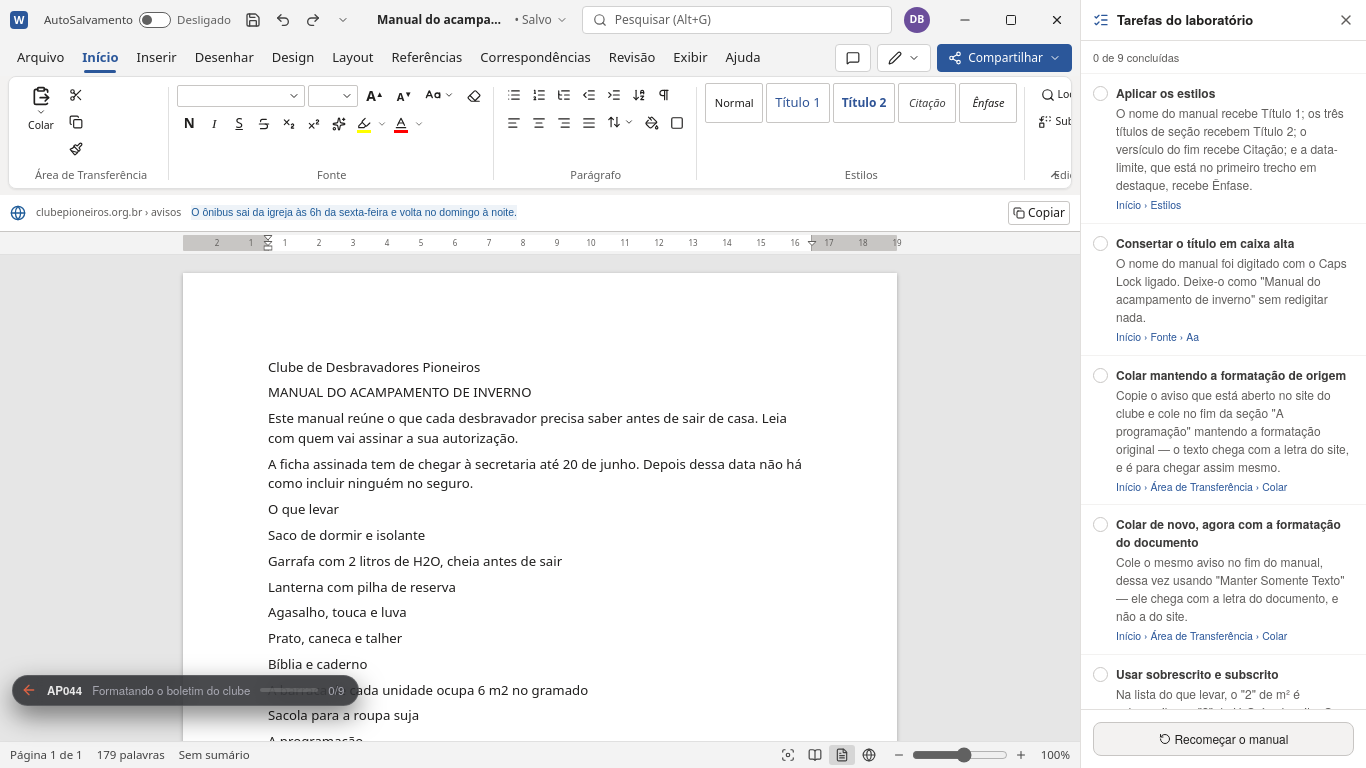
Test: o laboratório de estilos se vence clicando › o sumário gerado sem estilo nenhum sai vazio, e diz isso
The image size is (1366, 768).
Click the tab with class "wd-guia" showing "Referências". click: (427,58)
box: top-left (382, 40), bottom-right (471, 76)
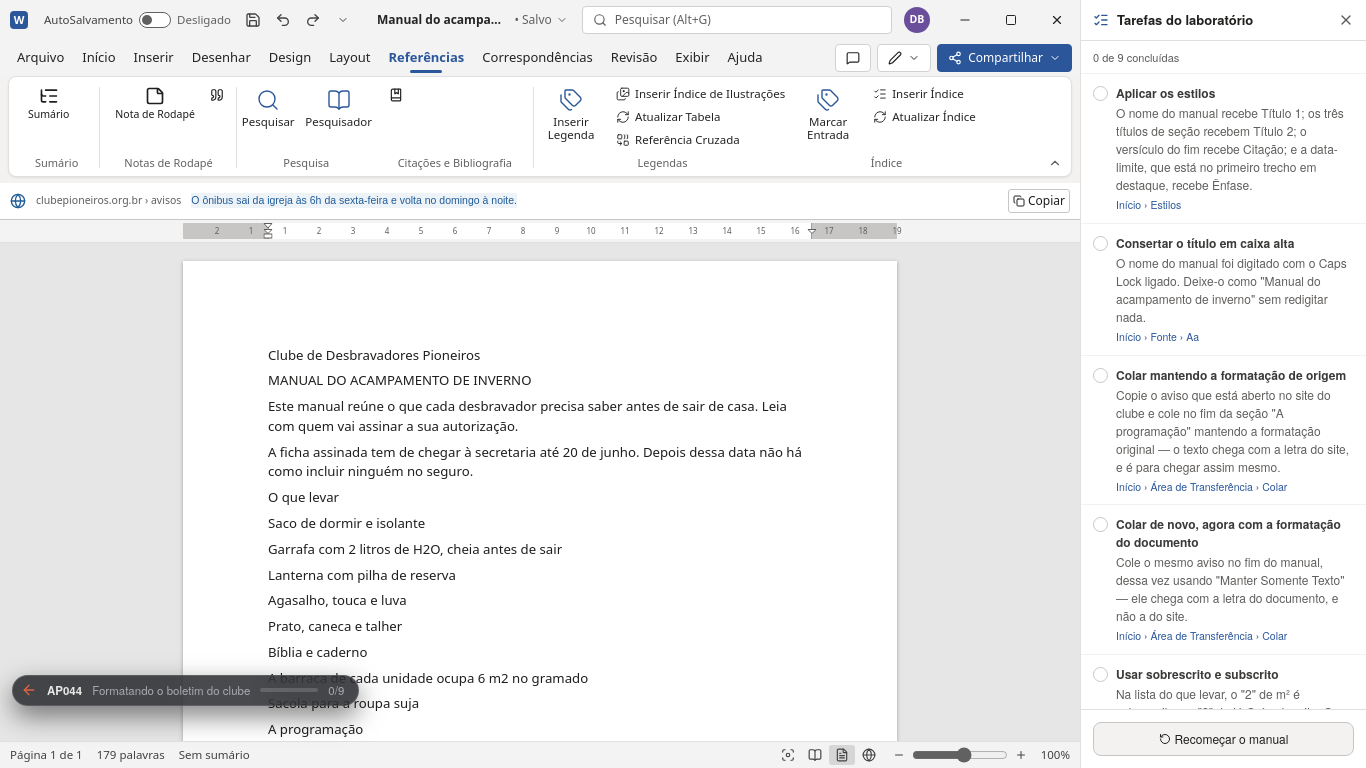
Click the button "Sumário". click: (49,104)
box: top-left (21, 83), bottom-right (76, 126)
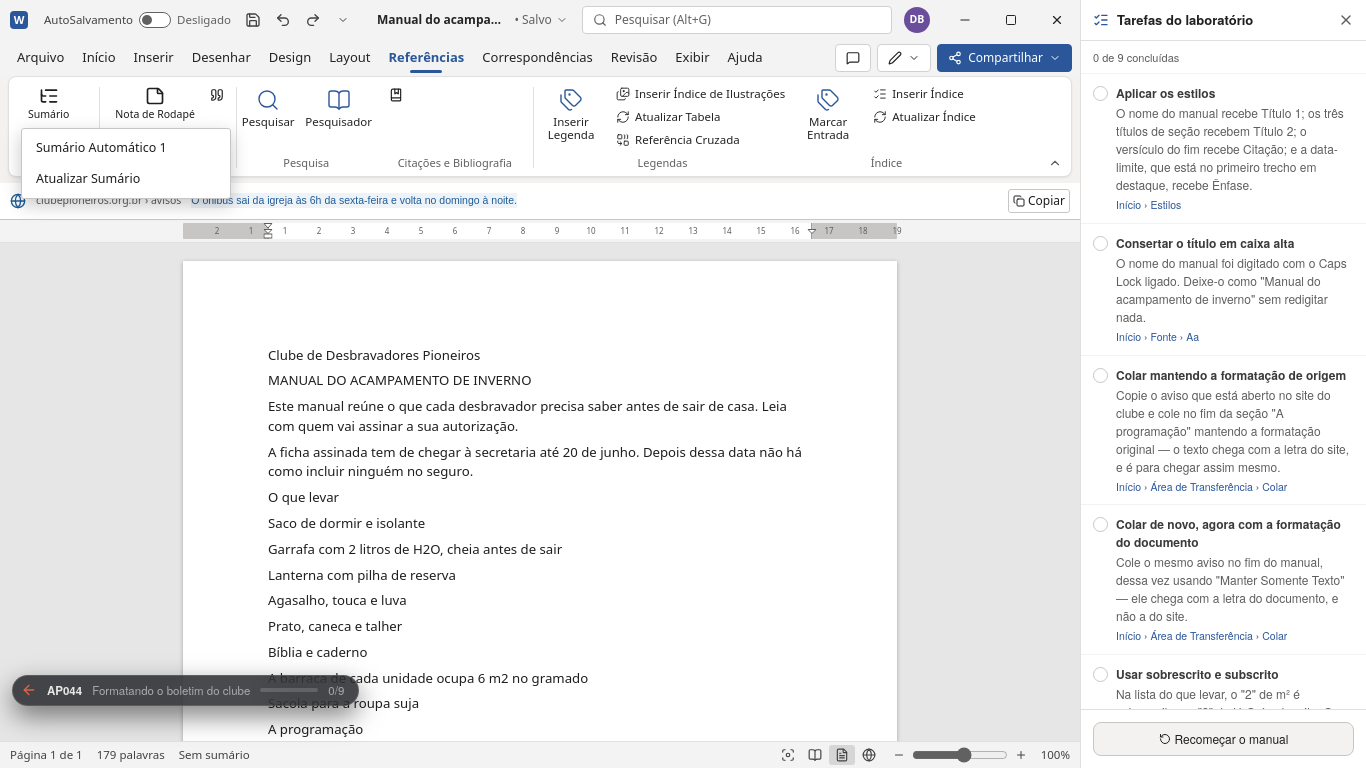
Now the menu item with class "wd-menu-item" showing "Sumário Automático 1" is shown
Click the menu item with class "wd-menu-item" showing "Sumário Automático 1". click: (126,148)
box: top-left (26, 133), bottom-right (226, 164)
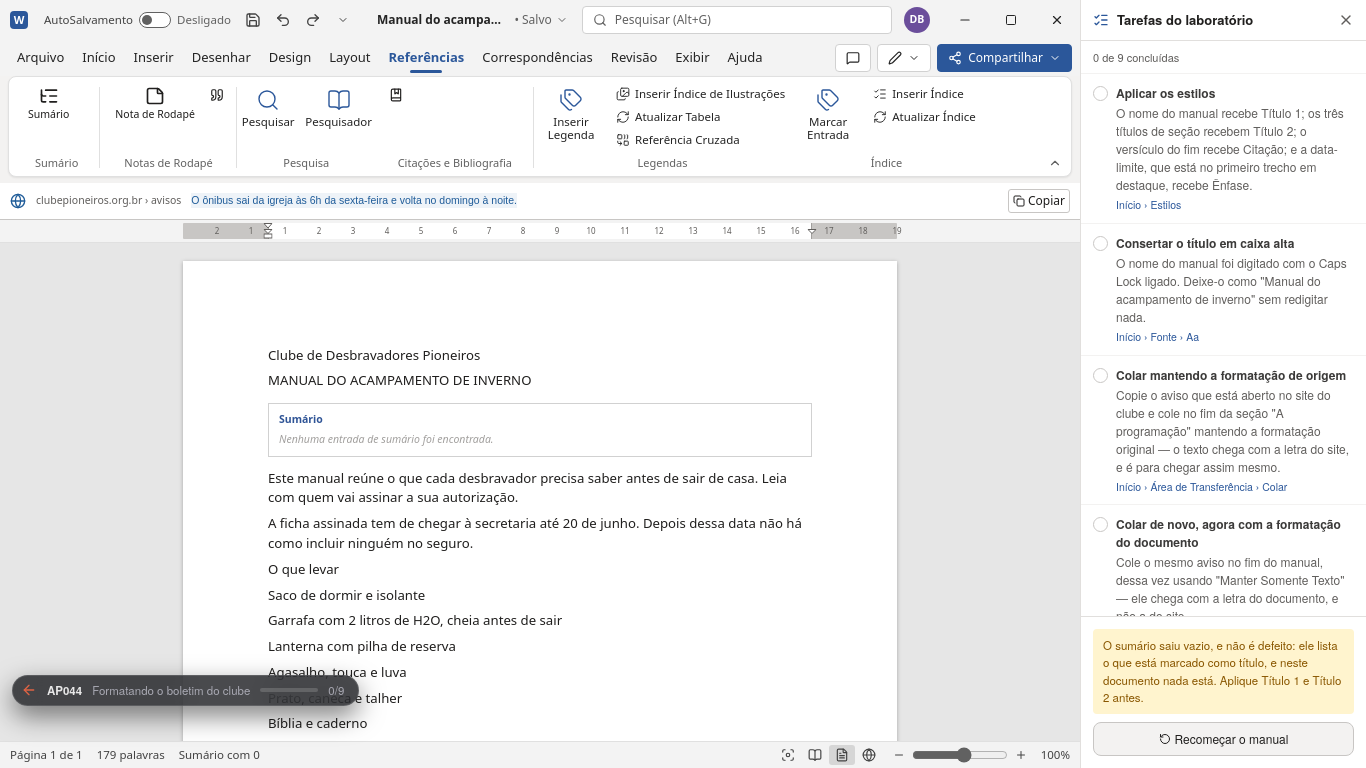
Now the text "Nenhuma entrada de sumário foi encontrada." is shown, box top-left (279, 432), bottom-right (494, 446)
